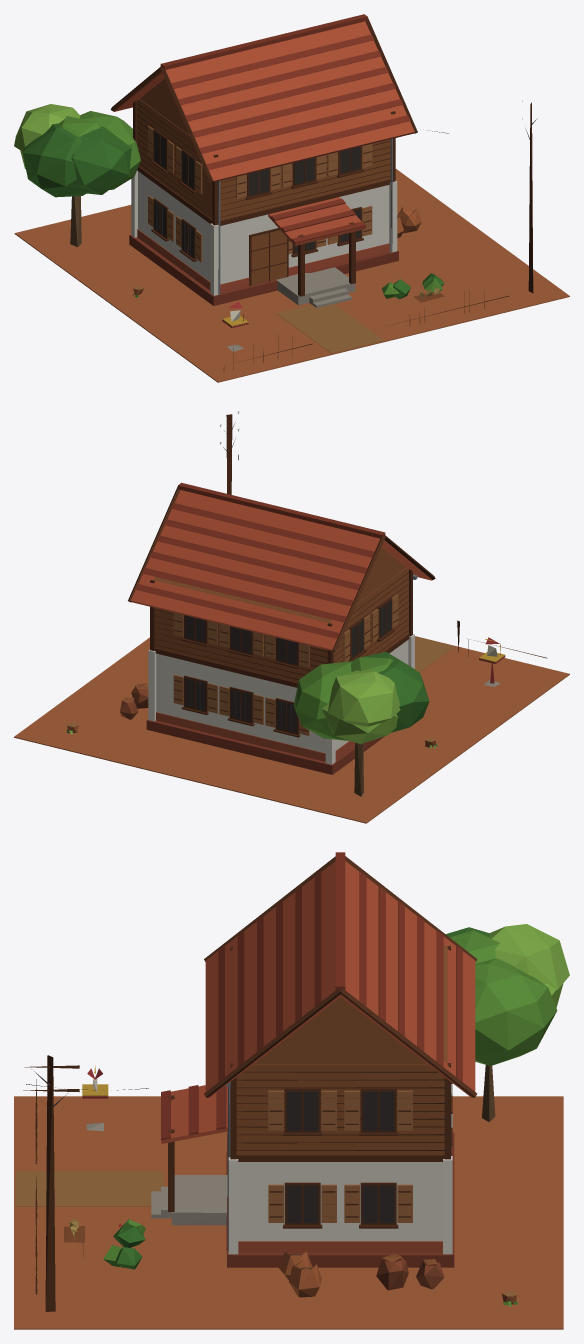
The model's file is home_2.glb.
The picture shows the model from 3 angles, top to bottom: view 1: azimuth 30°, elevation 25°; view 2: azimuth 150°, elevation 25°; view 3: azimuth 270°, elevation 25°; orthographic projection. The views are drawn at different scales.
Parts seen in each view (by area): view 1: body, windows; view 2: body, windows; view 3: body, windows.
Boxes of the visible parts, box(x1,y1,x2,y2) form: body: box(14, 14, 569, 382); windows: box(154, 131, 360, 257); body: box(14, 411, 569, 823); windows: box(185, 600, 391, 733); body: box(14, 852, 569, 1329); windows: box(287, 1091, 394, 1223).
Bounding box in the file's own units: 16.82 × 9.46 × 16.08.
